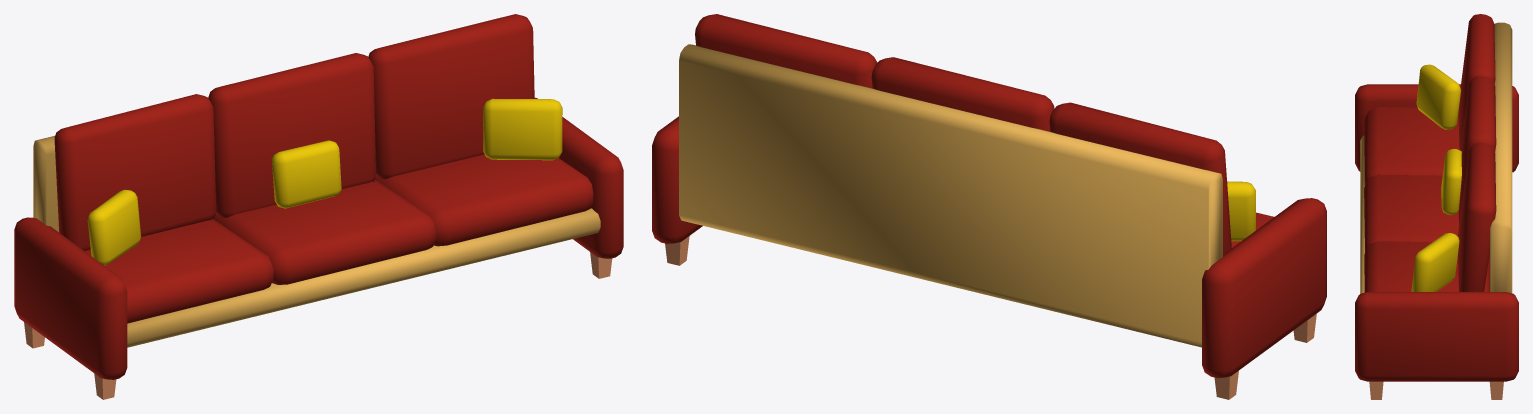
The model's file is sofa.glb.
3 renders of one model, left to right at view 1: azimuth 30°, elevation 25°; view 2: azimuth 150°, elevation 25°; view 3: azimuth 270°, elevation 25°, orthographic. The views are drawn at different scales.
Parts seen in each view (by area): view 1: sofa, sofa.003, sofa.001, sofa.002; view 2: sofa.003, sofa, sofa.001, sofa.002; view 3: sofa, sofa.003, sofa.001, sofa.002.
Boxes of the visible parts, x1,y1,x2,y2 form: sofa: (14,14,623,379); sofa.003: (33,136,600,347); sofa.001: (87,98,562,265); sofa.002: (24,252,612,399); sofa.003: (679,44,1222,347); sofa: (652,14,1326,377); sofa.001: (1227,181,1255,241); sofa.002: (665,236,1316,399); sofa: (1355,14,1518,381); sofa.003: (1360,22,1512,293); sofa.001: (1411,64,1461,291); sofa.002: (1369,381,1503,399).
Size of the model in its own units: 2.94 by 1.18 by 0.9293.
